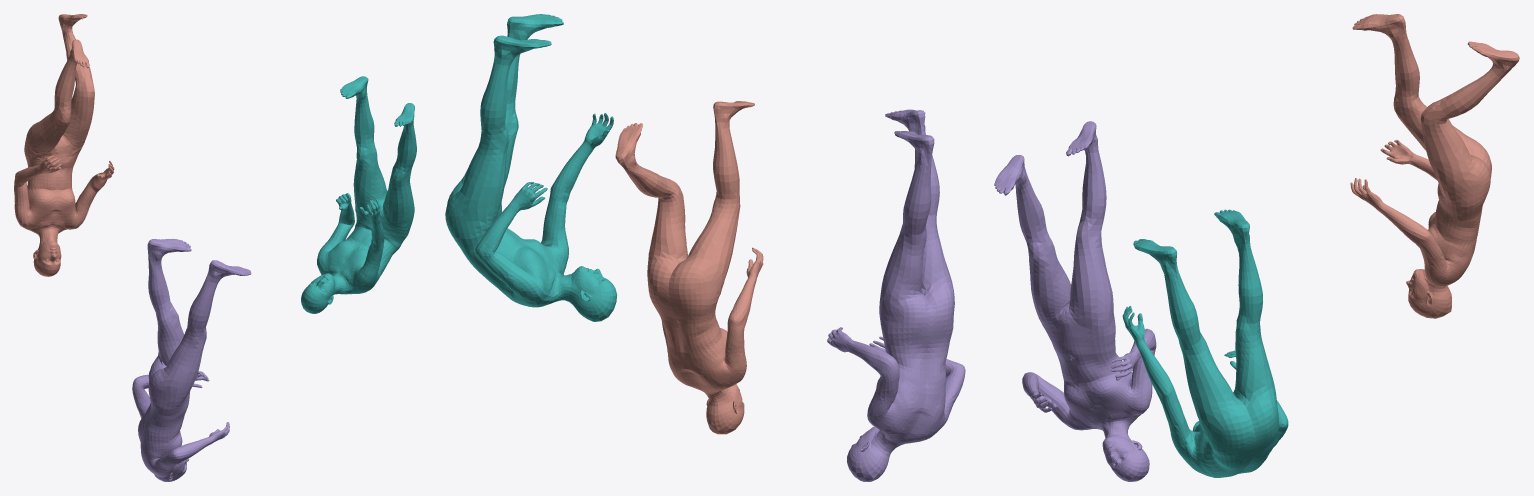
The model's file is all_people_native_world.glb.
3 views of the same model, side by side, from view 1: azimuth 30°, elevation 25°; view 2: azimuth 150°, elevation 25°; view 3: azimuth 270°, elevation 25° (orthographic). The views are drawn at different scales.
Parts seen in each view (by area): view 1: persistent_id_1_slot_2, persistent_id_0_slot_1, persistent_id_2_slot_0; view 2: persistent_id_2_slot_0, persistent_id_1_slot_2, persistent_id_0_slot_1; view 3: persistent_id_2_slot_0, persistent_id_1_slot_2, persistent_id_0_slot_1.
Part boxes in pixels (x1=…): persistent_id_1_slot_2: x1=301, y1=76, x2=416, y2=313; persistent_id_0_slot_1: x1=14, y1=14, x2=114, y2=276; persistent_id_2_slot_0: x1=132, y1=238, x2=251, y2=481; persistent_id_2_slot_0: x1=827, y1=109, x2=965, y2=481; persistent_id_1_slot_2: x1=445, y1=14, x2=617, y2=321; persistent_id_0_slot_1: x1=615, y1=101, x2=763, y2=434; persistent_id_2_slot_0: x1=994, y1=121, x2=1156, y2=481; persistent_id_1_slot_2: x1=1122, y1=209, x2=1288, y2=477; persistent_id_0_slot_1: x1=1350, y1=14, x2=1519, y2=318.
Size of the model in its own units: 2.21 by 2.38 by 2.41.
